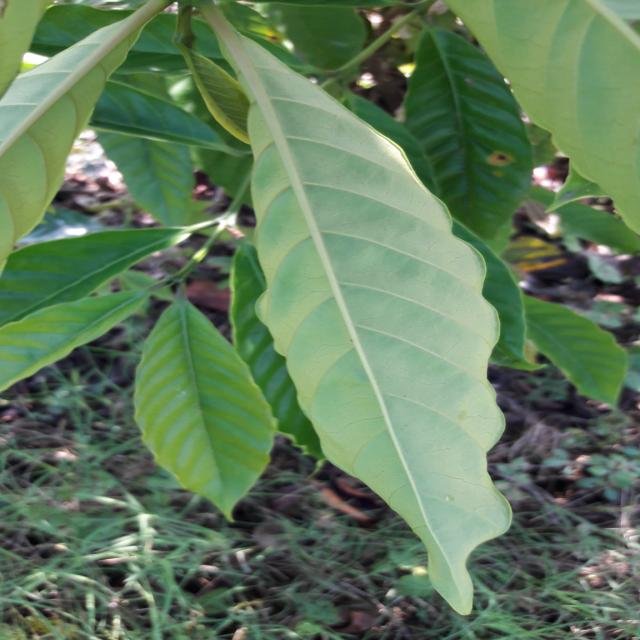Sanas: (203, 7, 514, 619)
